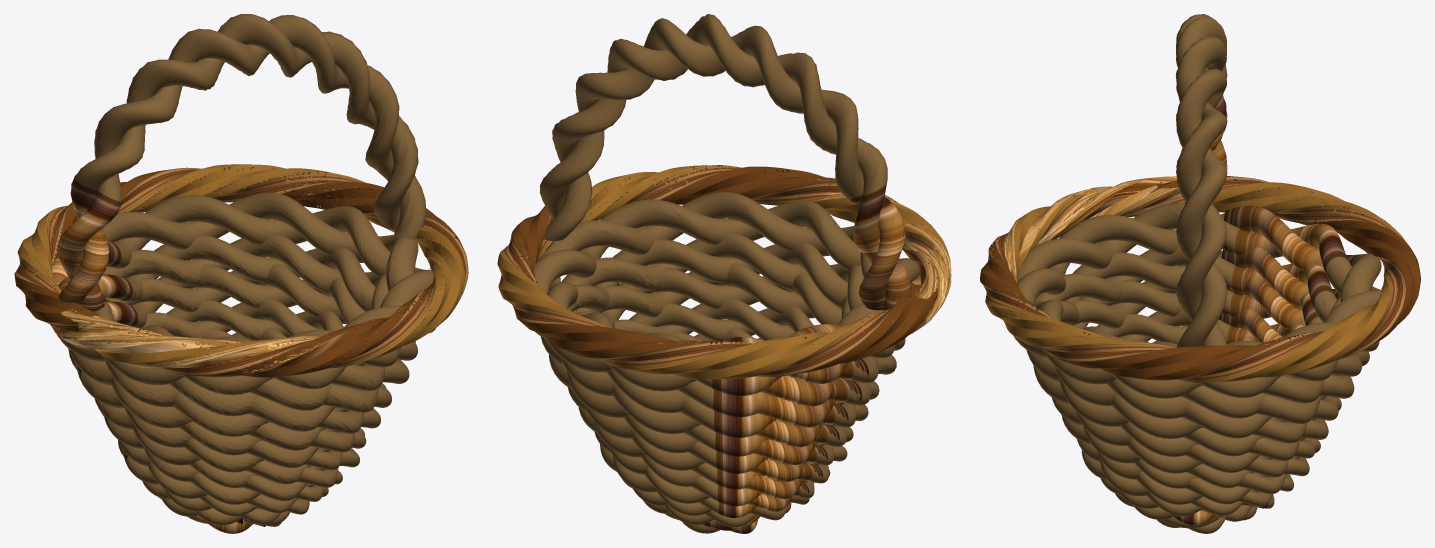
Rendered from canasta-transformed.glb.
3 views of the same model, side by side, from view 1: azimuth 30°, elevation 25°; view 2: azimuth 150°, elevation 25°; view 3: azimuth 270°, elevation 25° (orthographic). The views are drawn at different scales.
Visible parts, largest first — view 1: canasta; view 2: canasta; view 3: canasta.
Boxes of the visible parts, <box> form: canasta: <box>14,14,468,533</box>; canasta: <box>497,14,951,533</box>; canasta: <box>980,14,1420,533</box>.
Size of the model in its own units: 6.71 by 8.2 by 6.71.
1 material, 1 textured.
